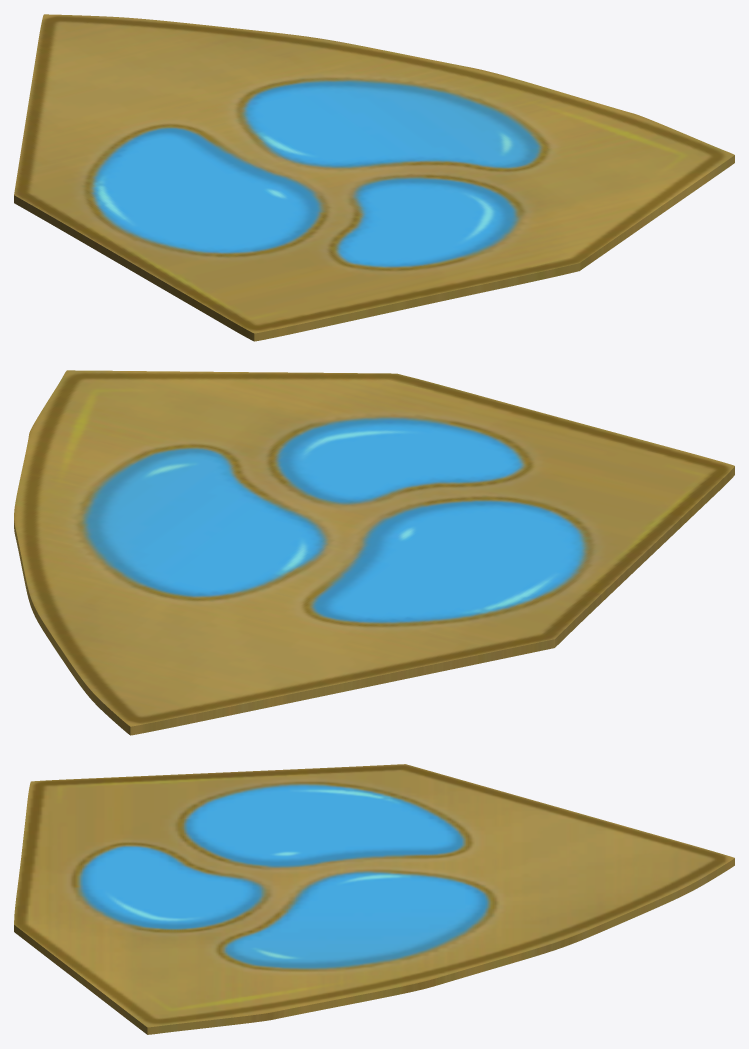
3 views of the same model, one above another, from view 1: azimuth 30°, elevation 25°; view 2: azimuth 150°, elevation 25°; view 3: azimuth 270°, elevation 25° (orthographic). The views are drawn at different scales.
Parts seen in each view (by area): view 1: path1587; view 2: path1587; view 3: path1587.
Boxes of the visible parts, box(x1,y1,x2,y2) form: path1587: box(14, 14, 734, 341); path1587: box(14, 370, 734, 735); path1587: box(14, 764, 734, 1034).
Bounding box in the file's own units: 75.9 × 1 × 87.82.
Materials: 1 (1 with a texture image).
